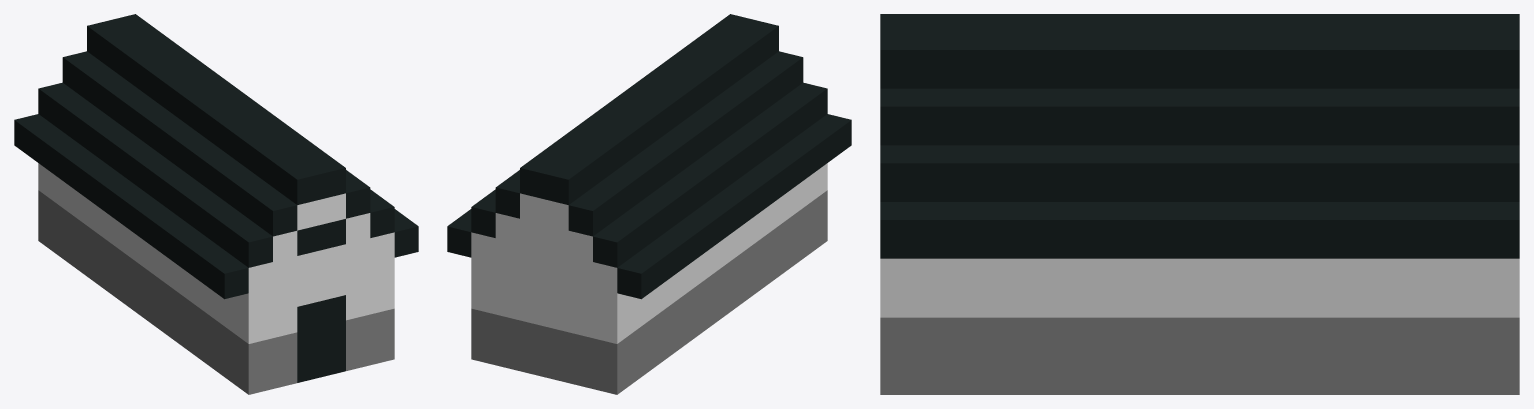
Rendered from WareHouse.fbx.
3 renders of one model, left to right at view 1: azimuth 30°, elevation 25°; view 2: azimuth 150°, elevation 25°; view 3: azimuth 270°, elevation 25°, orthographic. The views are drawn at different scales.
Visible parts, largest first — view 1: WareHouse; view 2: WareHouse; view 3: WareHouse.
Boxes of the visible parts, <box> form: WareHouse: <box>14,14,418,394</box>; WareHouse: <box>447,14,851,394</box>; WareHouse: <box>880,14,1519,394</box>.
Size of the model in its own units: 4.57 by 4.57 by 8.58.
